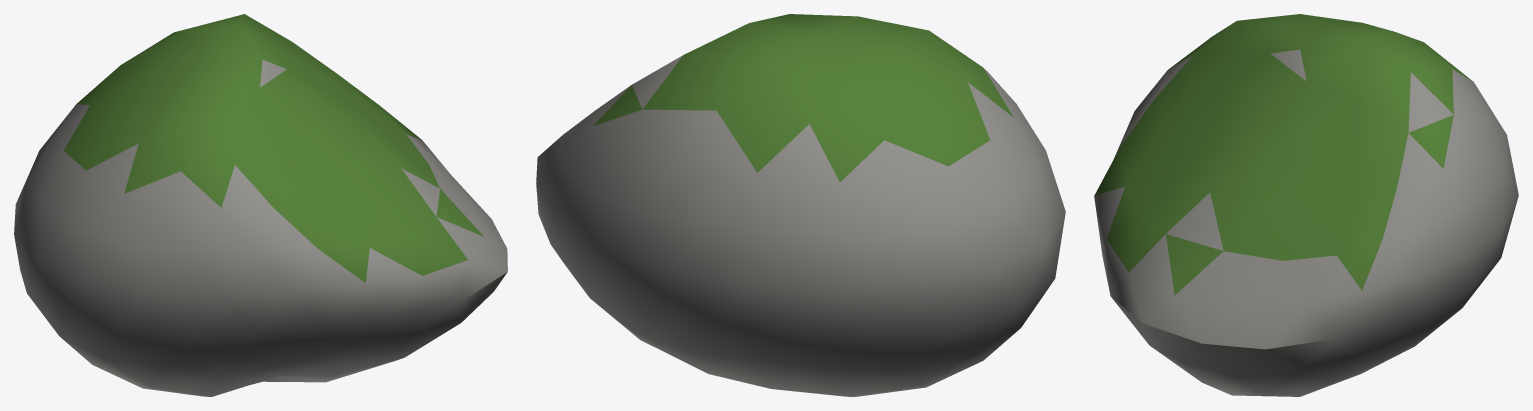
File: boulder_a.glb
3 views of the same model, side by side, from view 1: azimuth 30°, elevation 25°; view 2: azimuth 150°, elevation 25°; view 3: azimuth 270°, elevation 25° (orthographic). The views are drawn at different scales.
Parts seen in each view (by area): view 1: boulder_a; view 2: boulder_a; view 3: boulder_a.
Part boxes in pixels (left/top/right/bottom): boulder_a: left=14, top=14, right=507, bottom=396; boulder_a: left=536, top=14, right=1065, bottom=396; boulder_a: left=1094, top=14, right=1518, bottom=396.
Size of the model in its own units: 1.21 by 0.8829 by 1.02.
